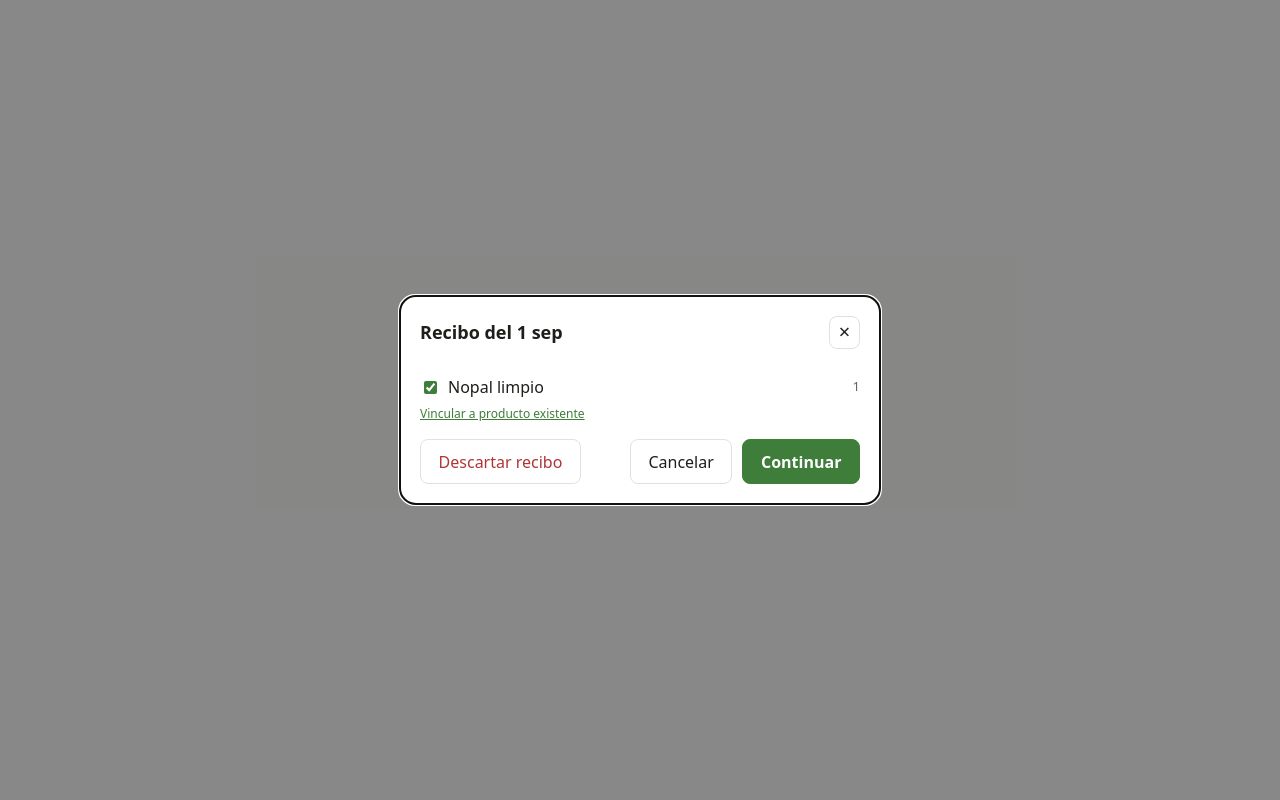
Test: ReceiptTripDialog manual link to existing product › resolves to the chosen product on confirm
This screenshot has width=1280, height=800.
Click the button "Vincular a producto existente": (502, 414) [420,405,585,423]
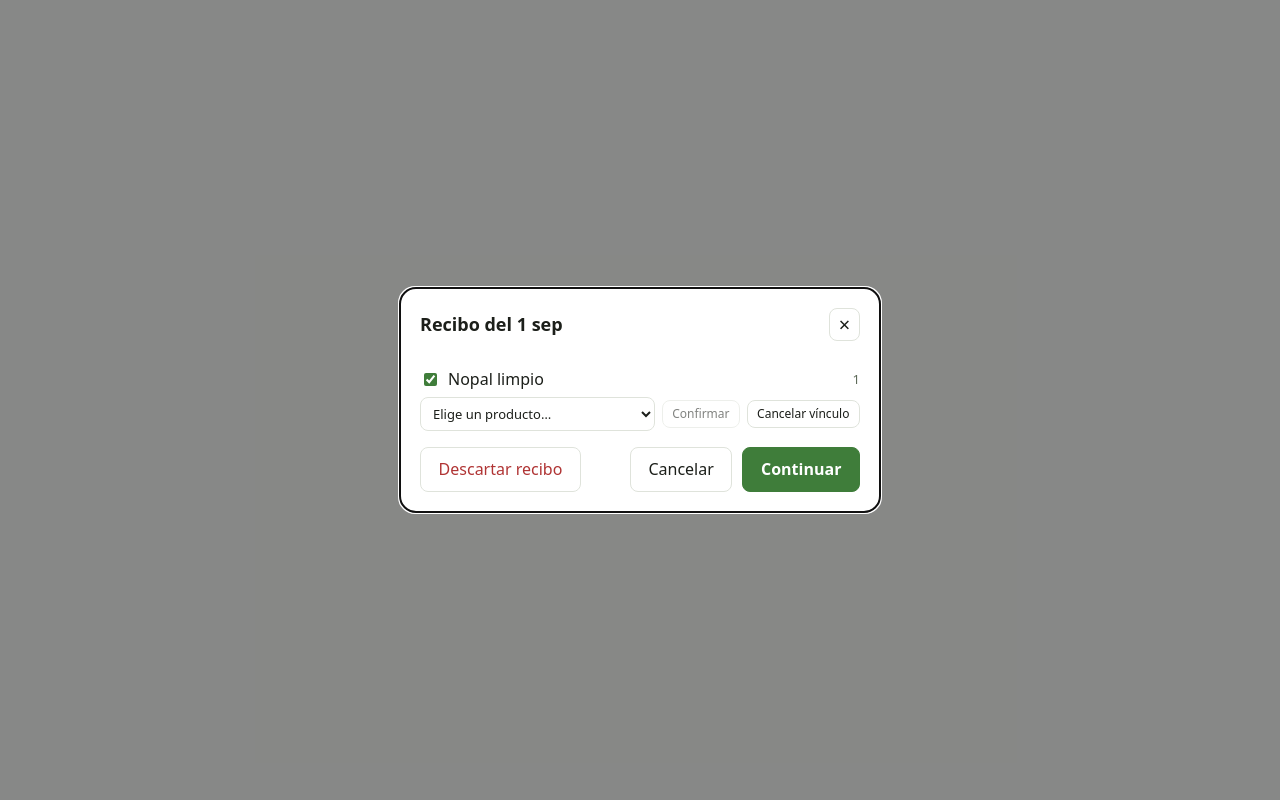
Select "Leche entera" in the dropdown named "Vincular Nopal limpio a un producto existente": (538, 414) [420,397,655,431]
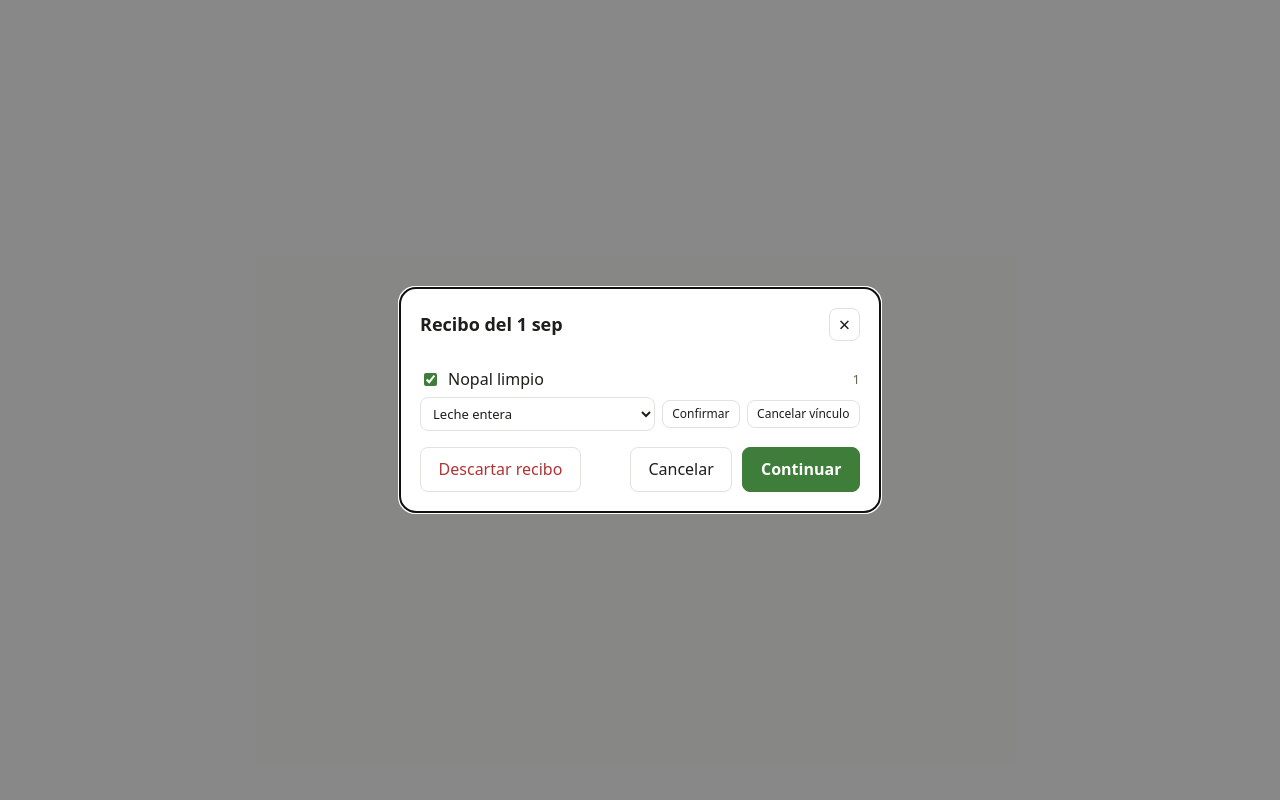
Click the button "Confirmar": (701, 414) [662,400,740,428]
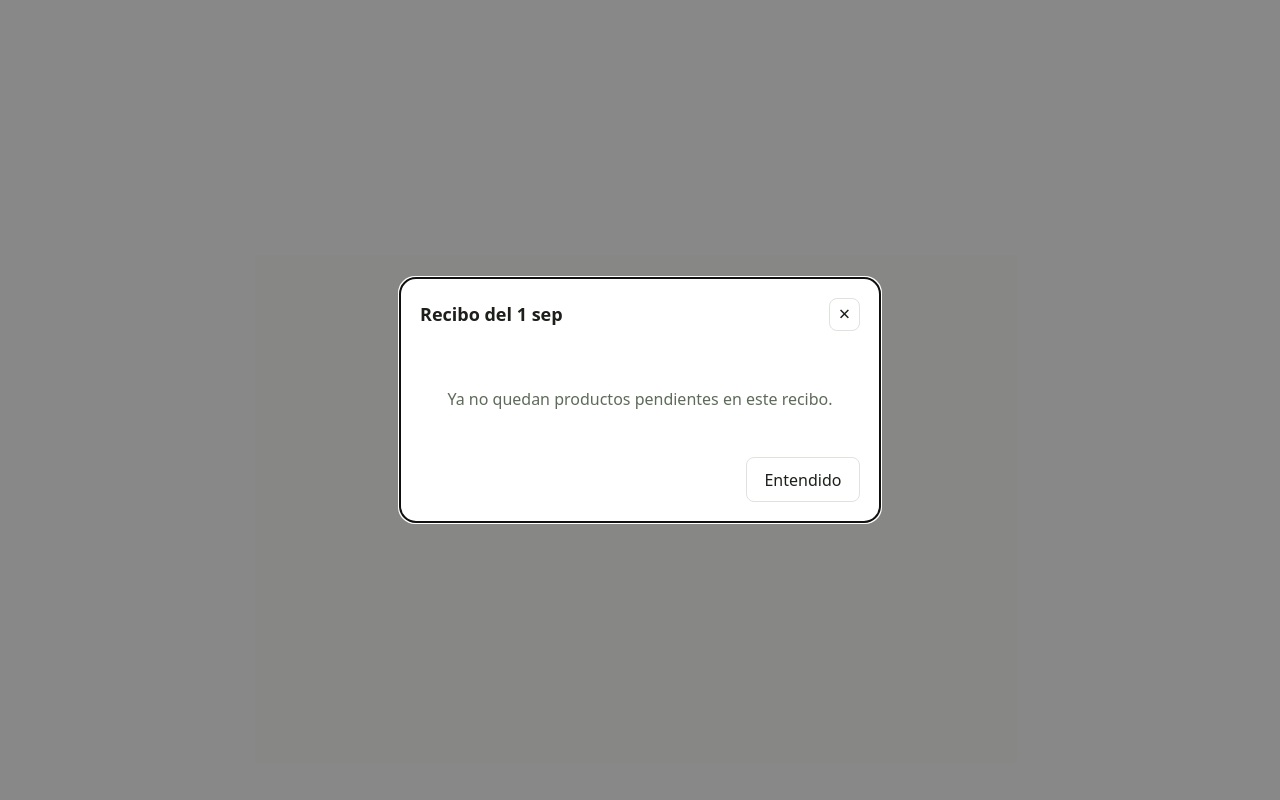
Expected: the text "Nopal limpio" is gone
